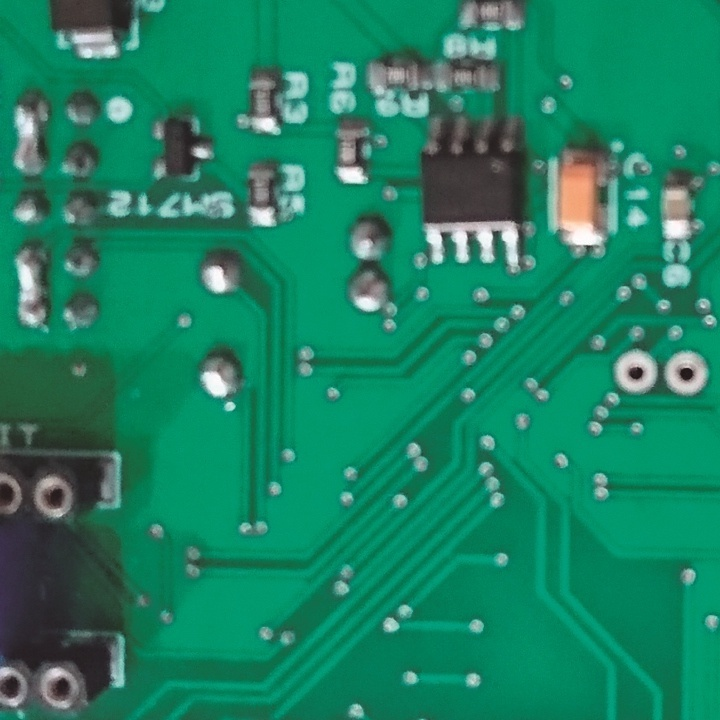F: (661, 347, 710, 398), (610, 349, 659, 395)
P: (10, 93, 47, 180), (13, 242, 49, 329)
